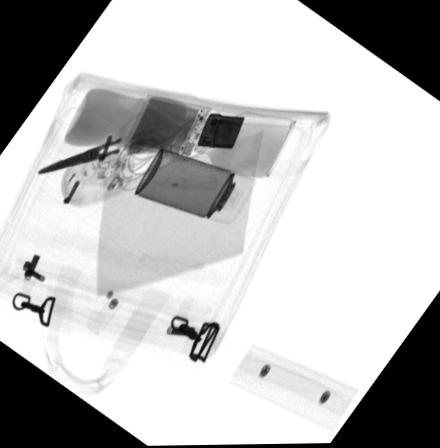Lighter: (132, 146, 259, 226), (196, 112, 244, 148)
Powerbank: (119, 92, 212, 162)
Scissors: (33, 105, 163, 175)
